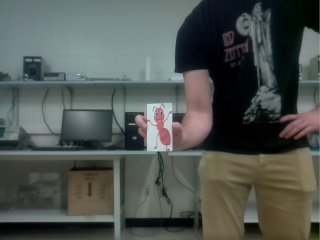Happy: (147, 103, 172, 151)
